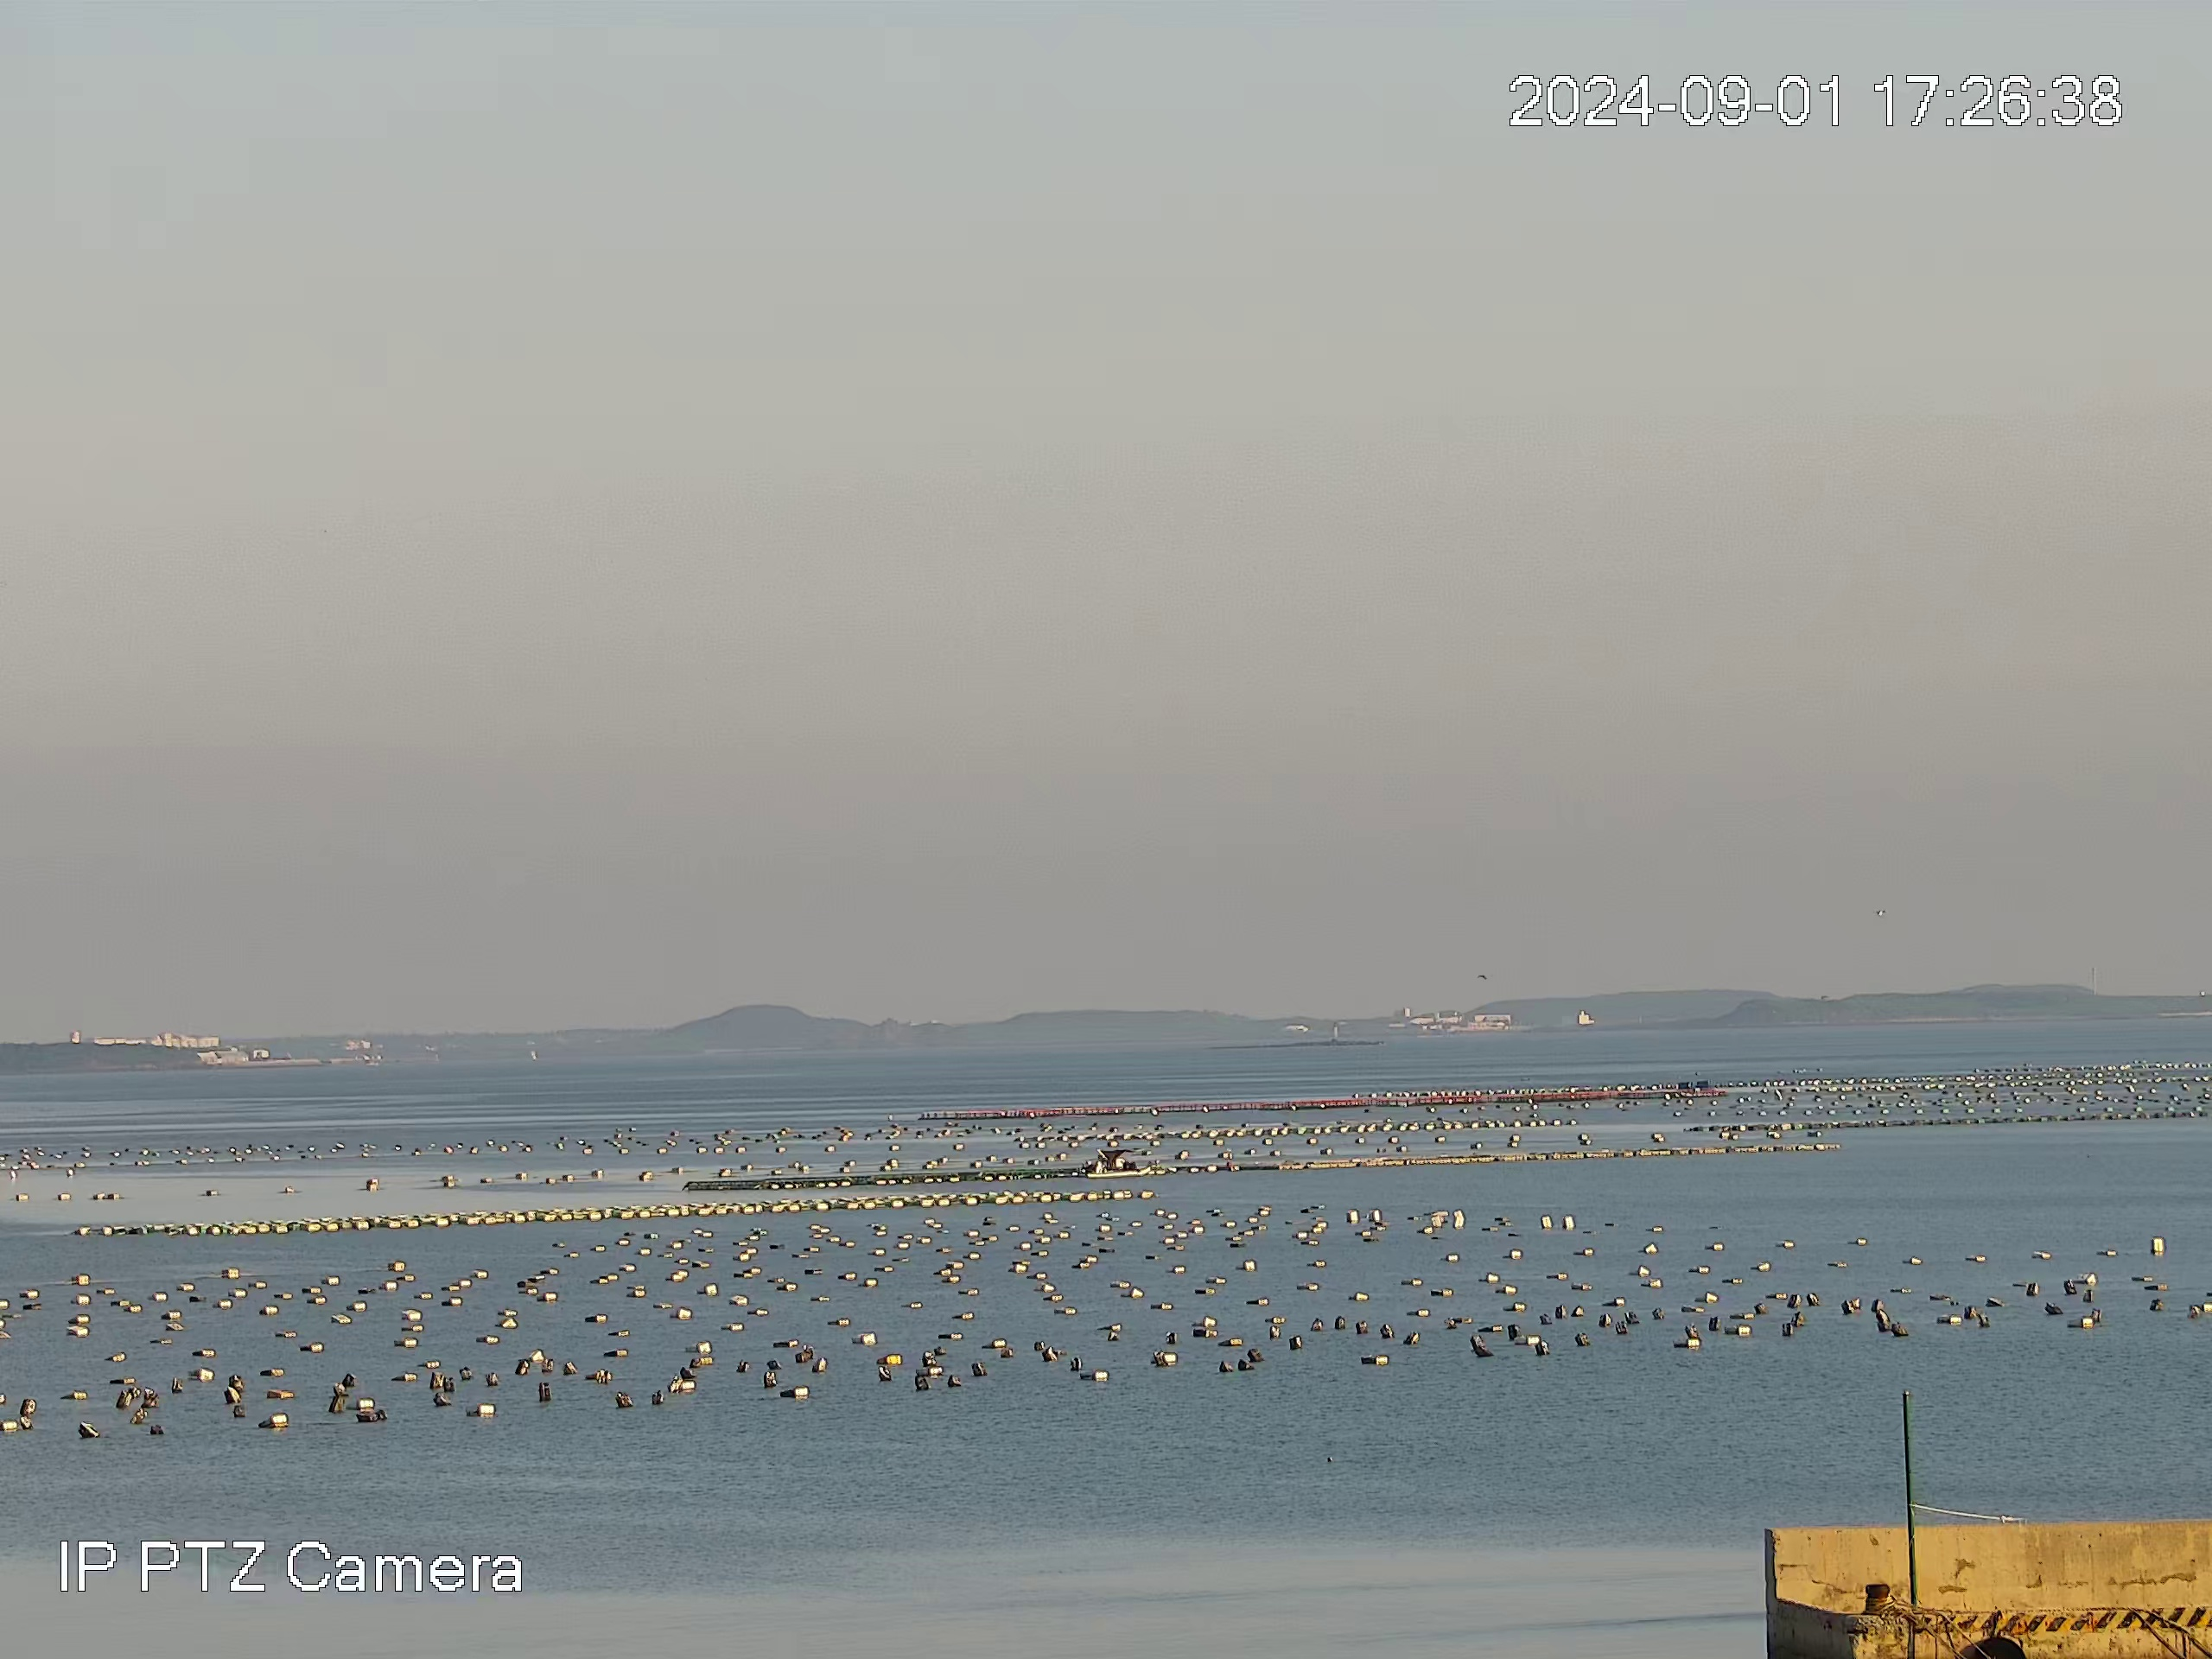boat: (1087, 1145, 1154, 1176)
